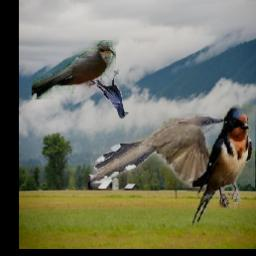Crow: (95, 70, 128, 119)
Cuckoo: (89, 113, 227, 188), (31, 41, 115, 100)
Swallow: (192, 105, 254, 227)
